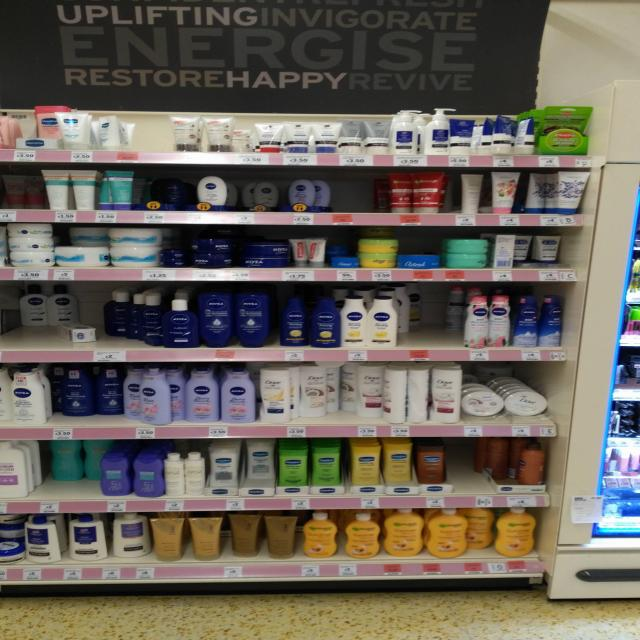empty_space: (335, 176, 373, 208), (453, 444, 479, 487), (46, 473, 90, 497), (424, 301, 448, 343)
